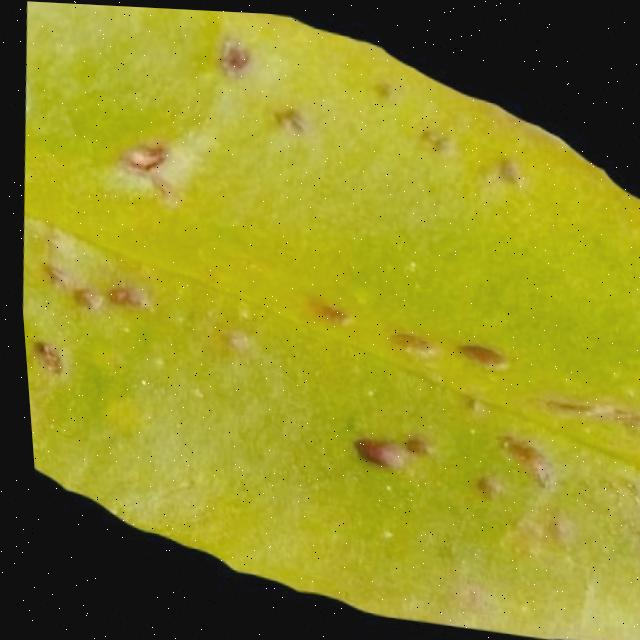mite: (18, 1, 309, 421), (18, 121, 172, 398), (107, 14, 308, 213), (18, 255, 142, 393), (102, 118, 185, 202), (341, 429, 396, 467), (380, 324, 433, 358), (62, 282, 92, 311), (23, 68, 31, 128), (24, 338, 43, 358)
sunburn: (114, 132, 172, 183)
